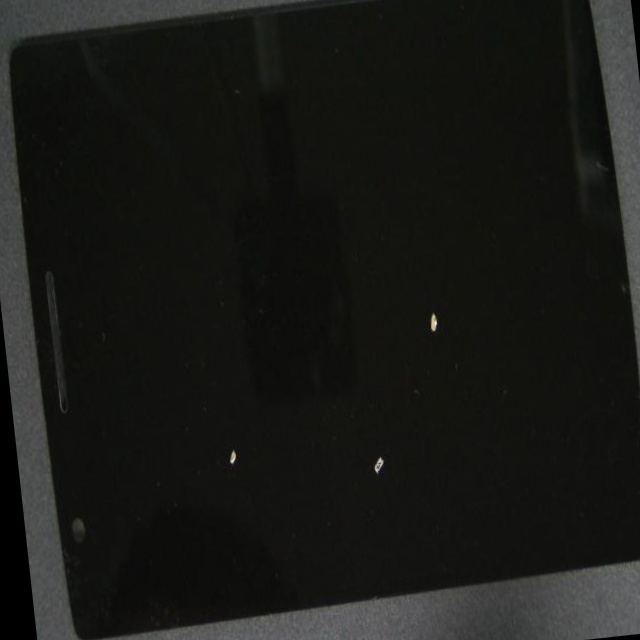stain: (201, 40, 640, 527), (183, 108, 570, 640), (127, 181, 377, 640)
